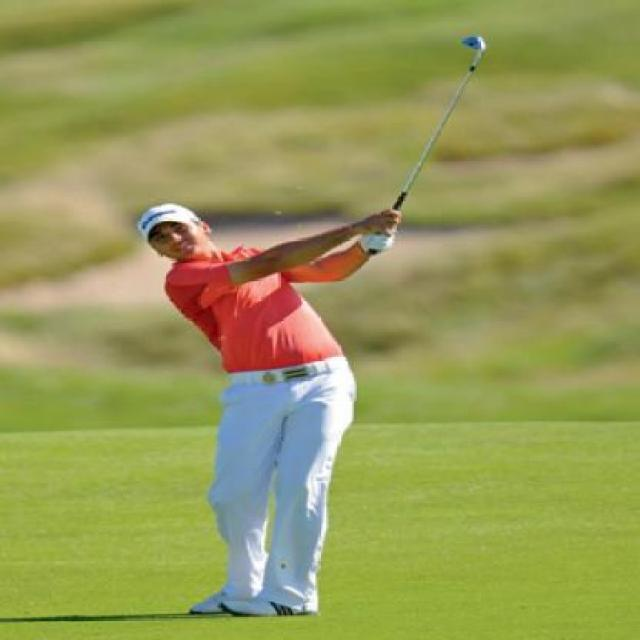club head: (460, 34, 486, 60)
